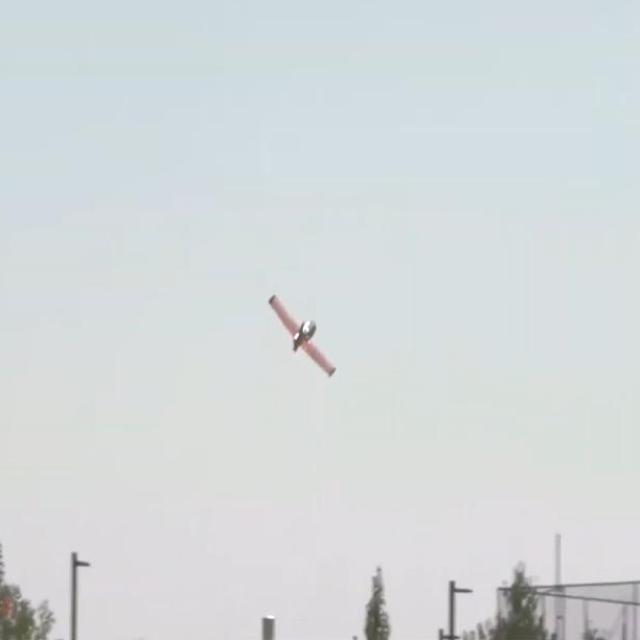plane: (268, 292, 339, 378)
